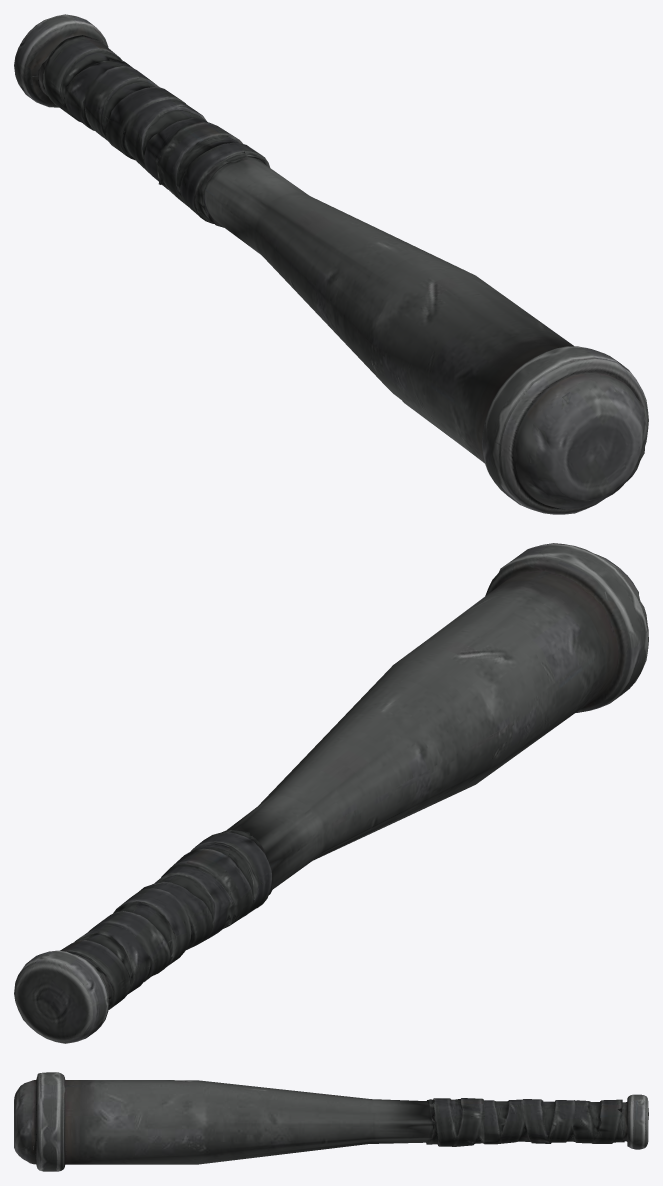
Rendered from bat.glb.
The picture shows the model from 3 angles, top to bottom: view 1: azimuth 30°, elevation 25°; view 2: azimuth 150°, elevation 25°; view 3: azimuth 270°, elevation 25°; orthographic projection. The views are drawn at different scales.
Parts seen in each view (by area): view 1: w_bat; view 2: w_bat; view 3: w_bat.
Boxes of the visible parts, bbox=[...] form: w_bat: bbox=[14, 14, 648, 514]; w_bat: bbox=[14, 543, 648, 1043]; w_bat: bbox=[14, 1072, 648, 1171].
Bounding box in the file's own units: 0.1094 × 0.1063 × 0.68.
1 material, 1 textured.
